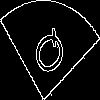Q: (24, 24, 71, 86)
